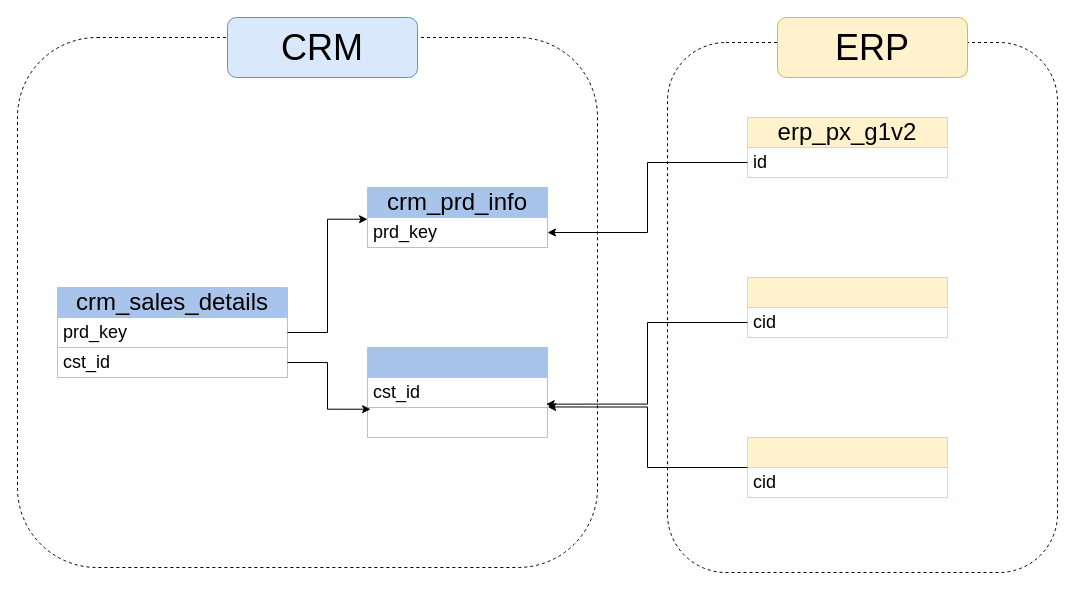
Image size: 1075x590. Some labels were removed from this diagram. Here are the shapes that lost their labels. From the top down, the box of each, then its label:
(746, 276, 948, 338): erp_cust_az12
(366, 346, 548, 438): crm_cust_info
(366, 406, 548, 438): cst_key
(746, 436, 948, 498): erp_loc_a101
